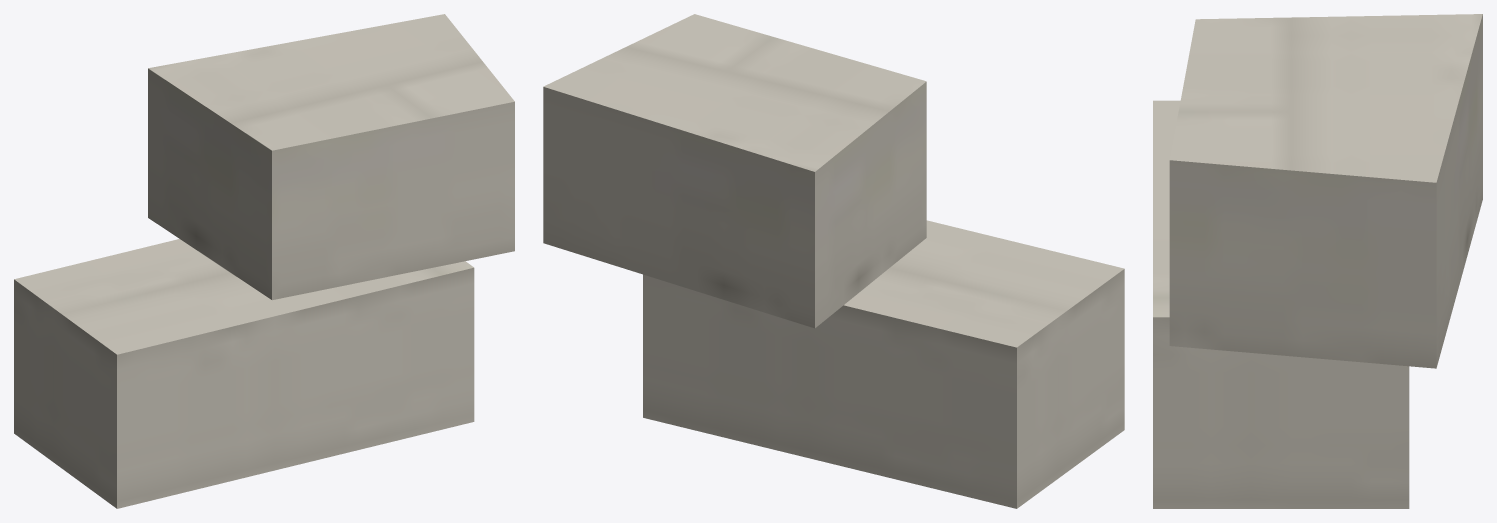
File: debris_dc_ashlar.glb
3 renders of one model, left to right at view 1: azimuth 30°, elevation 25°; view 2: azimuth 150°, elevation 25°; view 3: azimuth 270°, elevation 25°, orthographic. The views are drawn at different scales.
Parts seen in each view (by area): view 1: debris_dc_ashlar; view 2: debris_dc_ashlar; view 3: debris_dc_ashlar.
Boxes of the visible parts, x1,y1,x2,y2 form: debris_dc_ashlar: [14, 14, 514, 508]; debris_dc_ashlar: [543, 14, 1124, 508]; debris_dc_ashlar: [1153, 14, 1482, 508].
Size of the model in its own units: 1.98 by 1.3 by 1.03.
Materials: 1 (1 with a texture image).
